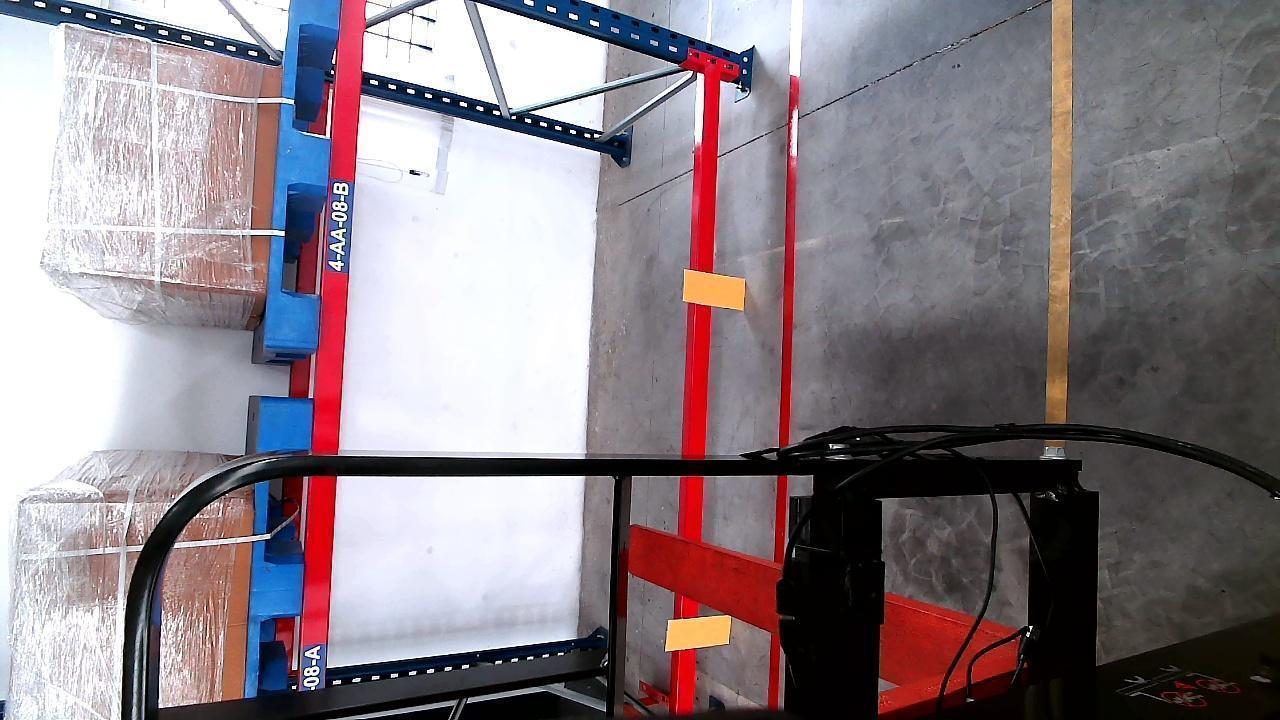red_line: (771, 67, 800, 709)
yellow_line: (1047, 0, 1073, 427)
